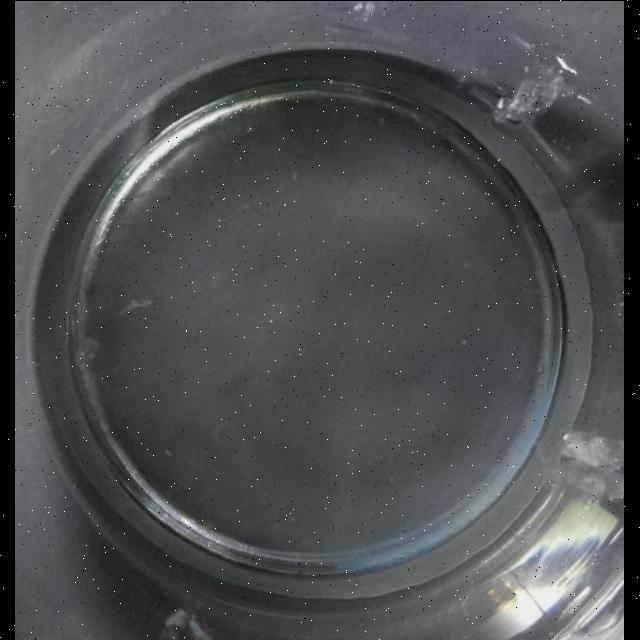Fibre: (554, 430, 624, 504), (496, 64, 570, 126), (164, 606, 214, 640), (118, 295, 156, 315)
microbeads: (347, 0, 381, 24)
